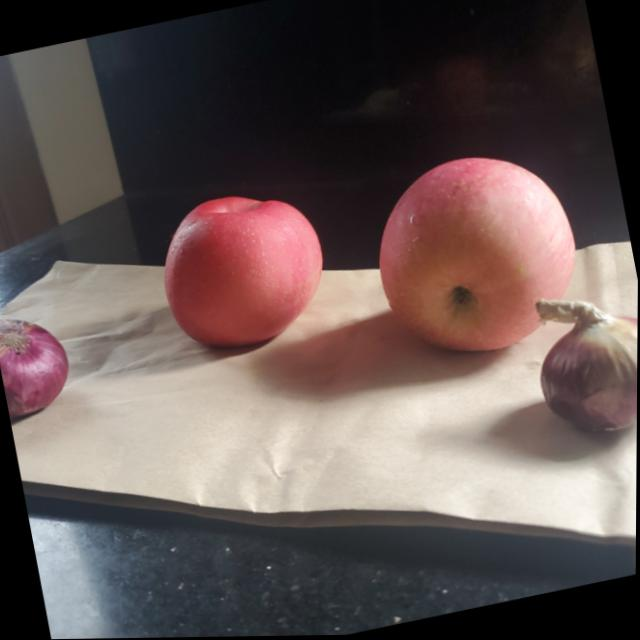apple: (357, 140, 590, 376), (152, 178, 342, 361)
onion: (523, 285, 638, 455), (0, 304, 79, 427)
